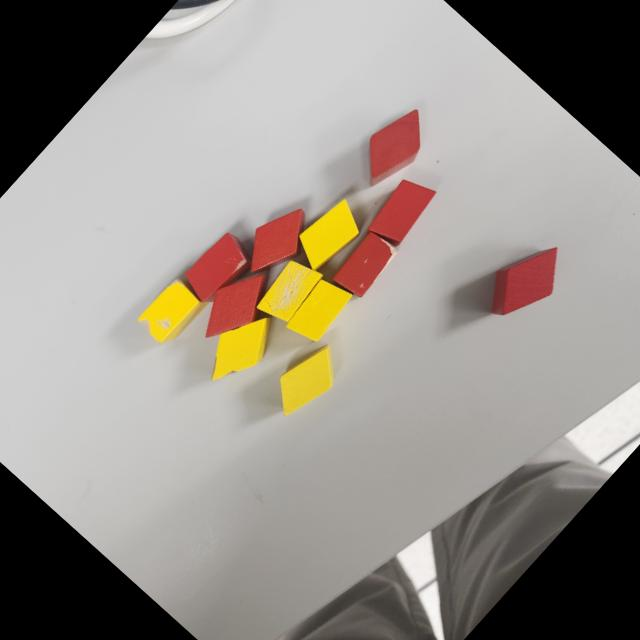broken: (192, 298, 287, 396), (176, 227, 260, 313), (250, 252, 327, 331), (134, 272, 210, 350), (326, 227, 400, 304)
red: (472, 227, 577, 335), (185, 256, 282, 356), (344, 98, 440, 197), (230, 194, 322, 288), (358, 168, 442, 254)
yellow: (260, 333, 352, 428), (286, 192, 370, 278), (280, 270, 357, 350)
